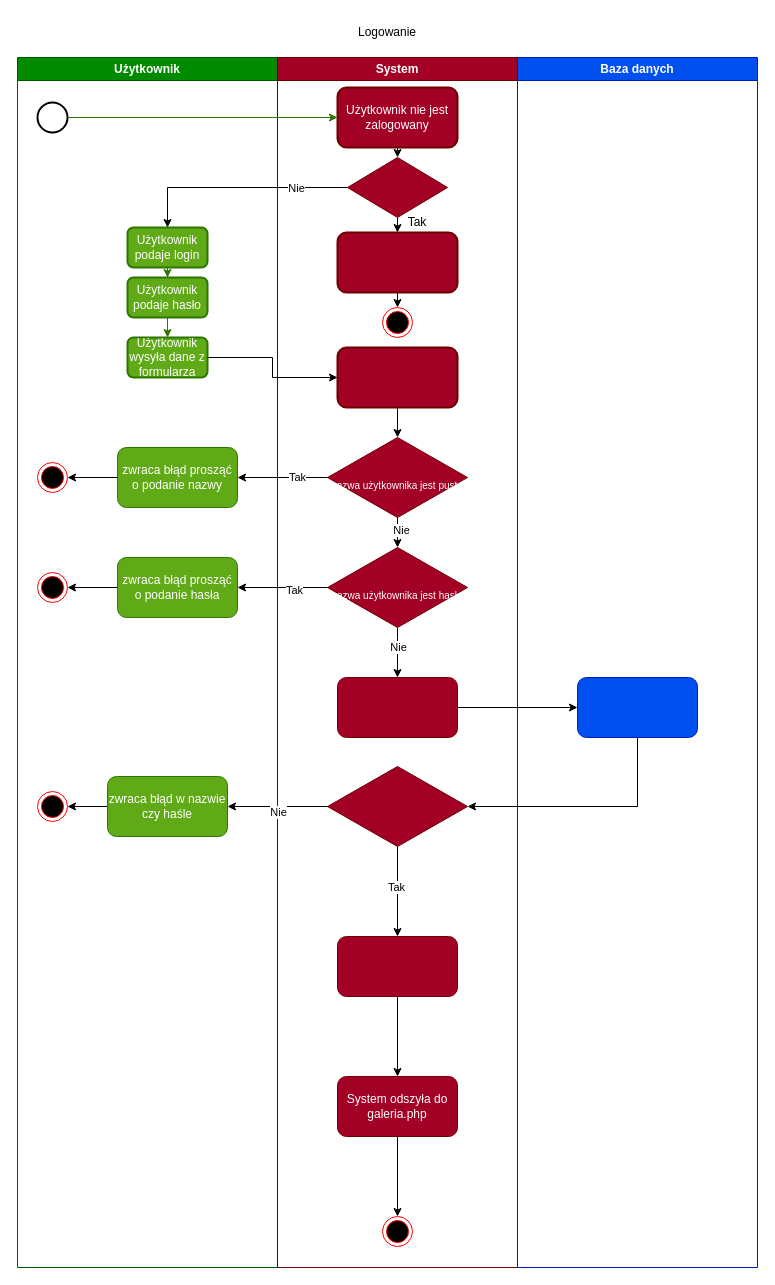
Some shapes in this 775 by 1285 pixel diagram are drawn without their labels. The box of each missing label's shape, as (x1, y1, x2, y2) in pixels:
Nazwa i hasła pokrywa się z tymi w bazię danych: (576, 676, 698, 738)
Odszyła do galeria.php: (336, 231, 458, 293)
pokrywa się: (326, 766, 468, 846)
system loguje użytkownika: (336, 936, 458, 996)
System waliduje dane: (336, 346, 458, 408)
Wysyła haslo i login: (336, 676, 458, 738)
Zalogowany: (346, 156, 448, 218)
